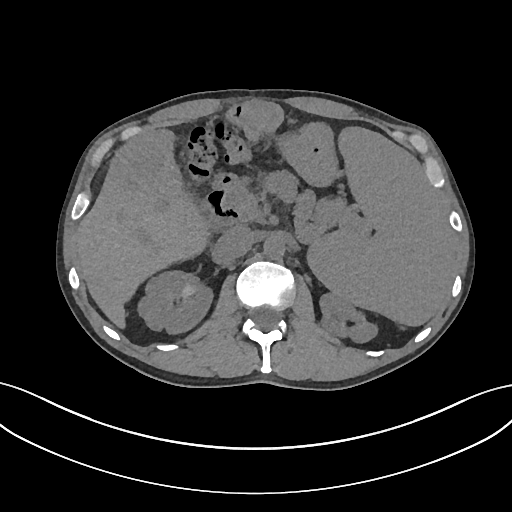Lesion: (173, 281, 200, 302)
